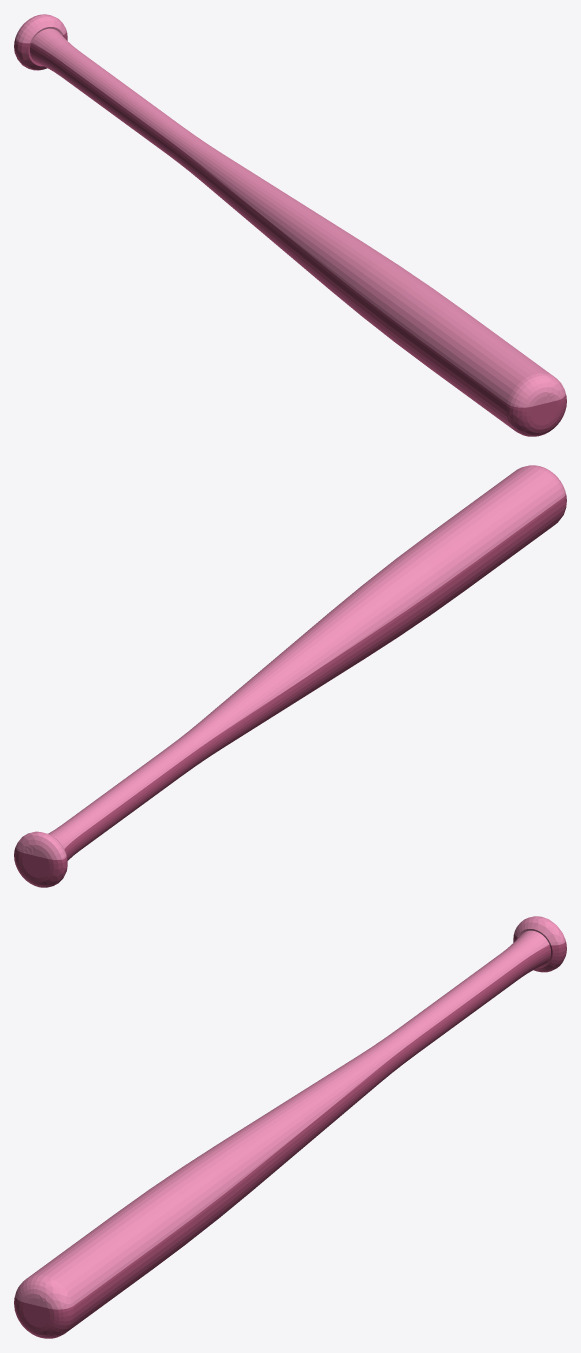
Rendered from Melee_Bat.obj.
3 views of the same model, one above another, from view 1: azimuth 30°, elevation 25°; view 2: azimuth 150°, elevation 25°; view 3: azimuth 330°, elevation 25° (orthographic).
Visible parts, largest first — view 1: Body, Grip; view 2: Body, Grip; view 3: Body, Grip.
Boxes of the visible parts, box(x1,y1,x2,y2) form: Body: box(15, 14, 565, 407); Grip: box(14, 31, 566, 436); Body: box(15, 465, 565, 859); Grip: box(14, 494, 566, 887); Body: box(15, 916, 565, 1309); Grip: box(14, 933, 566, 1338).
Size of the model in its own units: 0.1188 by 0.1188 by 1.8.
